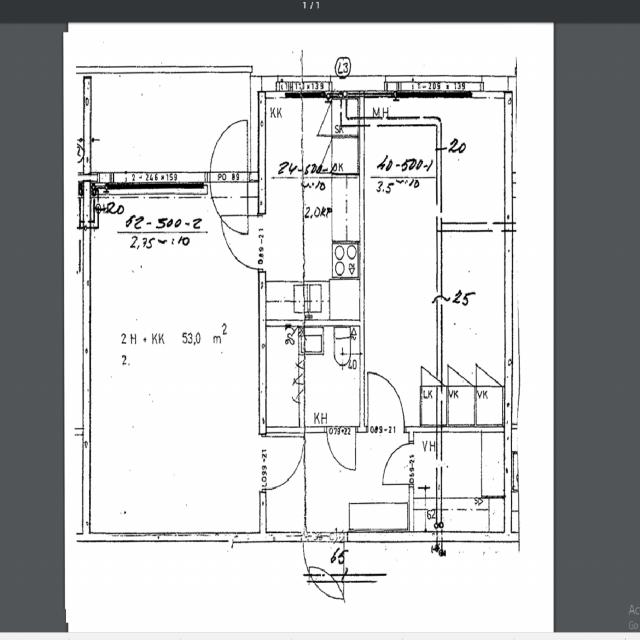door: (304, 532, 344, 600), (210, 172, 248, 236), (210, 119, 248, 183), (221, 216, 266, 268), (258, 437, 302, 488), (368, 374, 404, 432), (327, 426, 356, 472), (382, 443, 414, 484)
